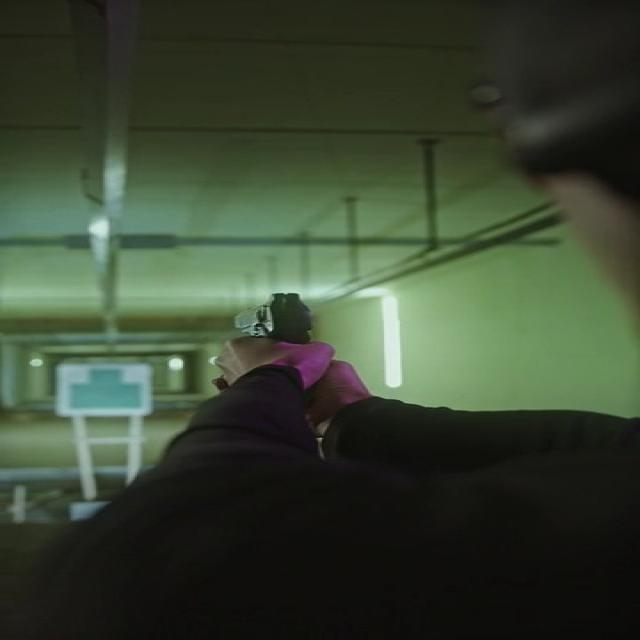Gun_Holder: (157, 282, 428, 460)
